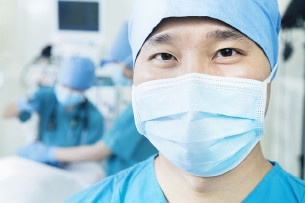Mask: (129, 28, 274, 172)
